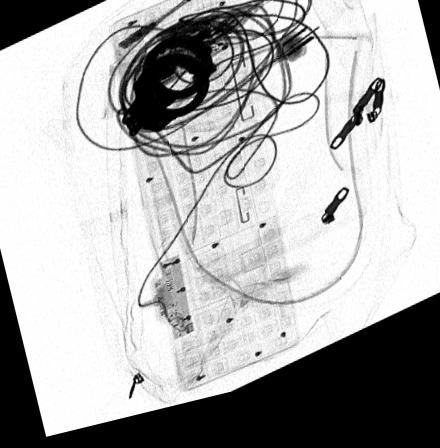HandCuffs: (120, 41, 216, 142)
